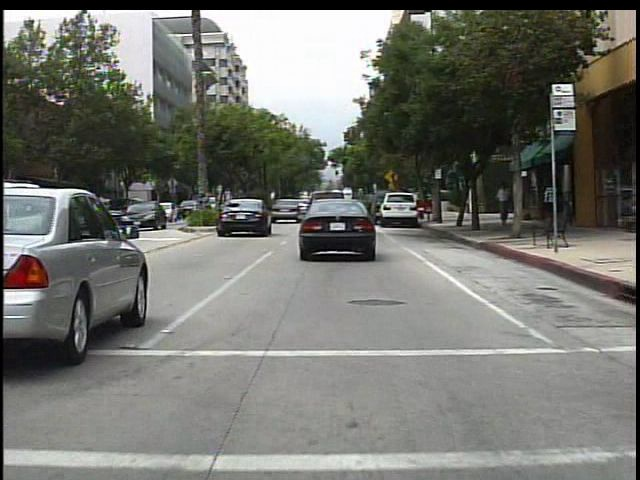person: (493, 183, 514, 228)
